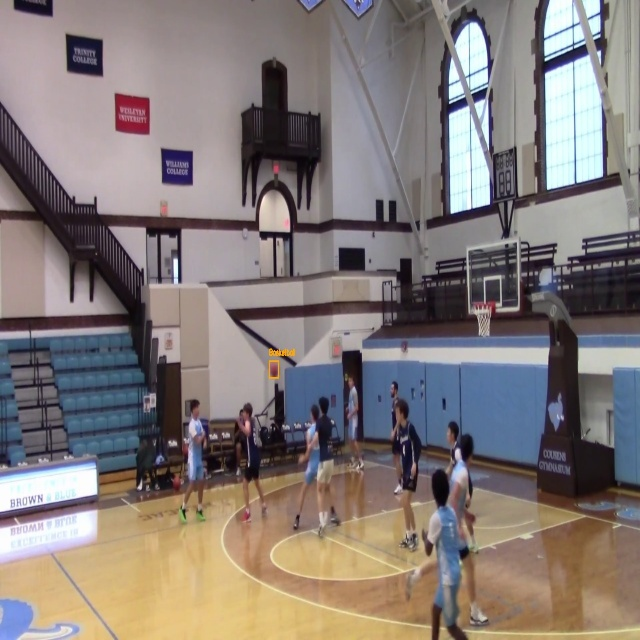Basketball: (269, 361, 279, 377)
